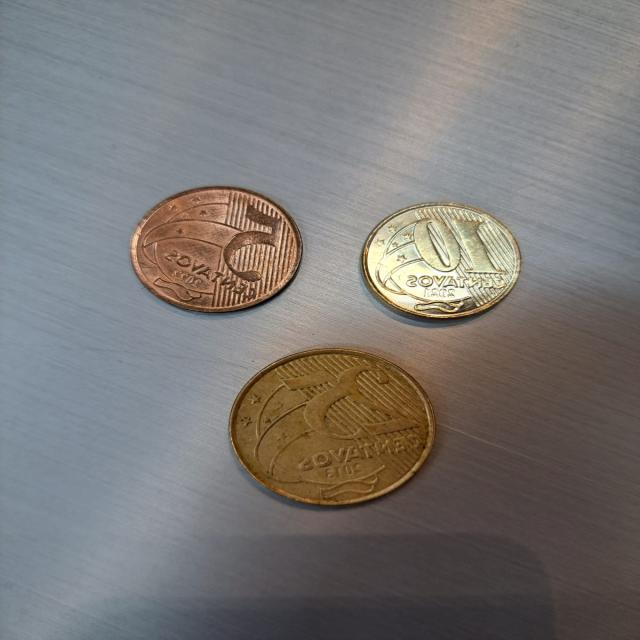25 cents: (208, 340, 464, 516)
